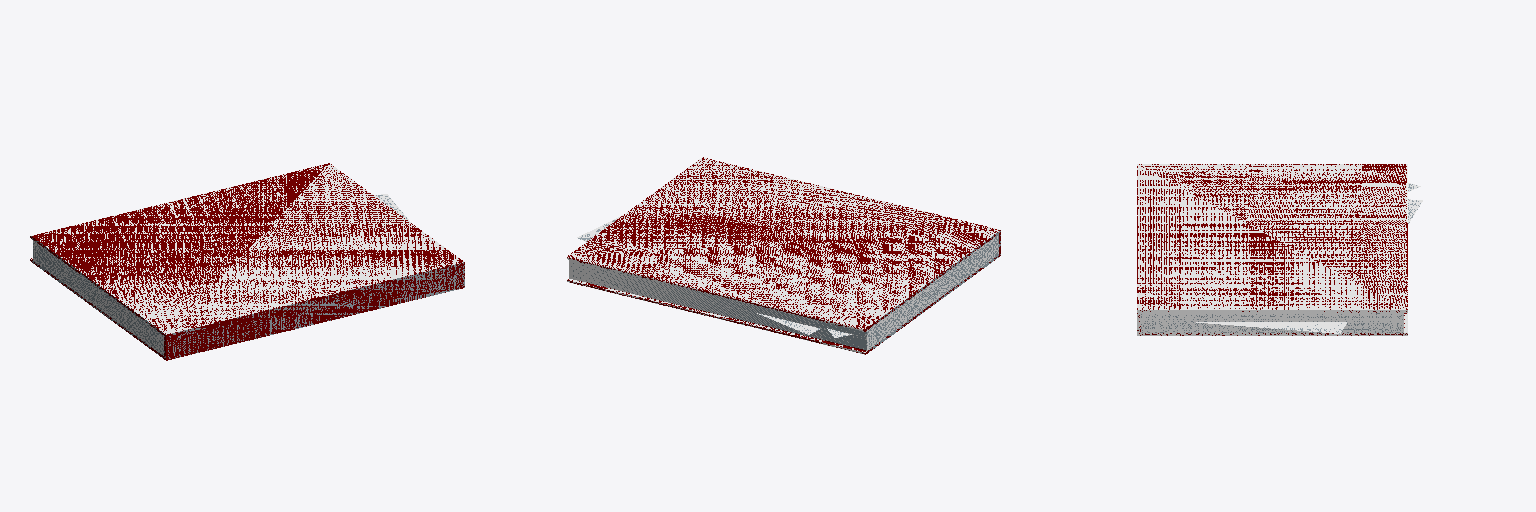
3 views of the same model, side by side, from view 1: azimuth 30°, elevation 25°; view 2: azimuth 150°, elevation 25°; view 3: azimuth 270°, elevation 25° (orthographic).
Visible parts, largest first — view 1: SketchUp_ID3.004; view 2: SketchUp_ID3.004; view 3: SketchUp_ID3.004.
Part boxes in pixels (left/top/right/bottom): SketchUp_ID3.004: left=30, top=163, right=464, bottom=360; SketchUp_ID3.004: left=567, top=157, right=1000, bottom=354; SketchUp_ID3.004: left=1137, top=164, right=1422, bottom=335.
Bounding box in the file's own units: 0.65 × 0.05 × 0.5.